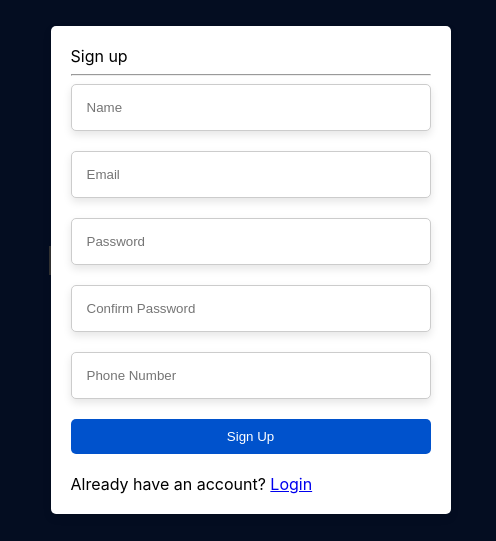
Signup Component › displays error message for failed signup
The width and height of the screenshot is (496, 541).
Fill out the signup form
Type "Test User" into the field with placeholder "Name". click: (250, 108)
box: [70,84,430,131]
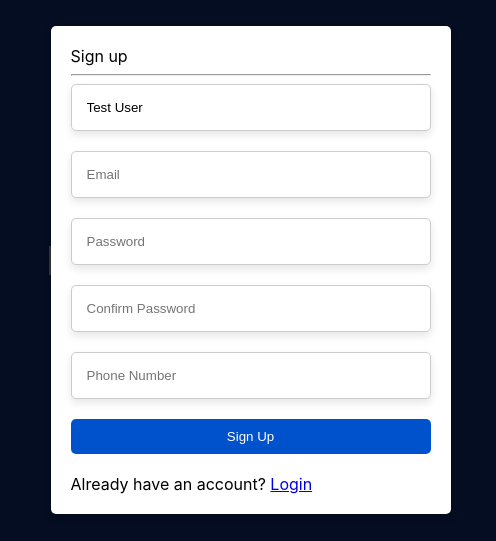
Type "test@example.com" into the field with placeholder "Email". click: (250, 174)
box: [70,151,430,198]
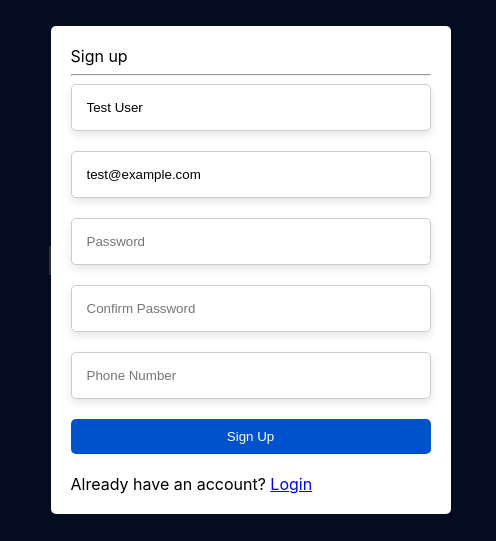
Type "TestPassword123#" into the password field with placeholder "Password". click: (250, 242)
box: [70,218,430,265]
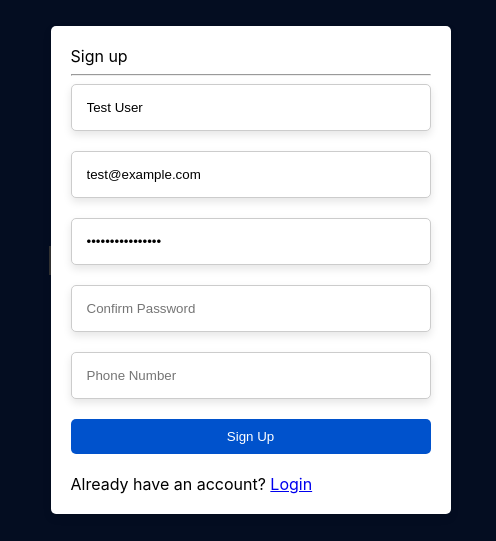
Type "TestPassword123#" into the password field with placeholder "Confirm Password". click: (250, 308)
box: [70,285,430,332]
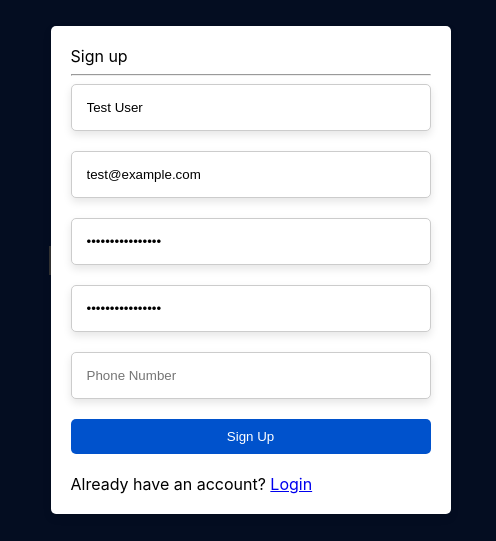
Type "1234567890" into the field with placeholder "Phone Number". click: (250, 376)
box: [70,352,430,399]
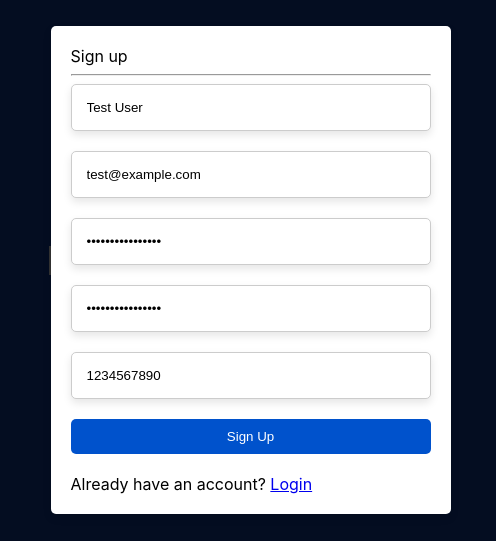
Submit the form
Click the button "Sign Up". click: click(250, 436)
box: [70,419,430,454]
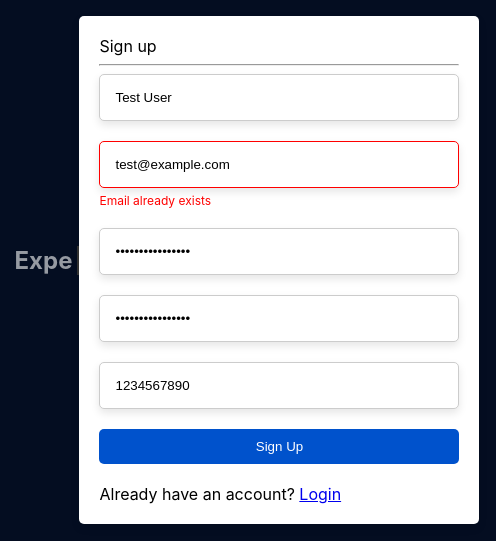
Check: the text "Email already exists" is shown, box [100,193,211,208]
